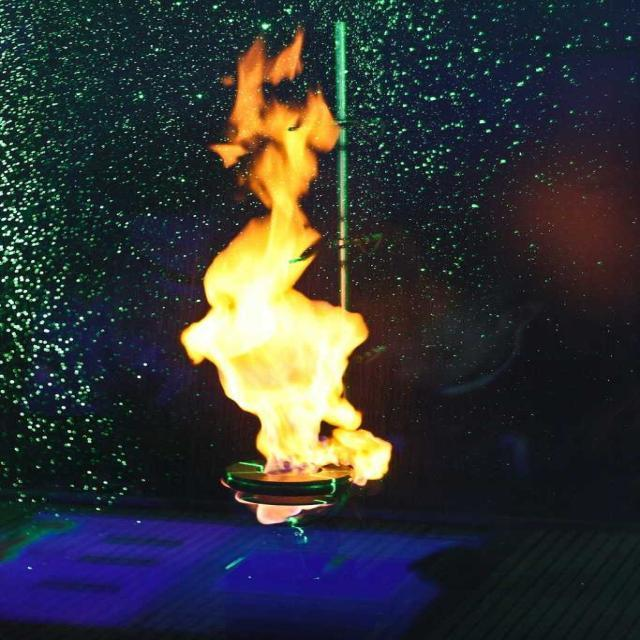Fire: (218, 236, 366, 447)
